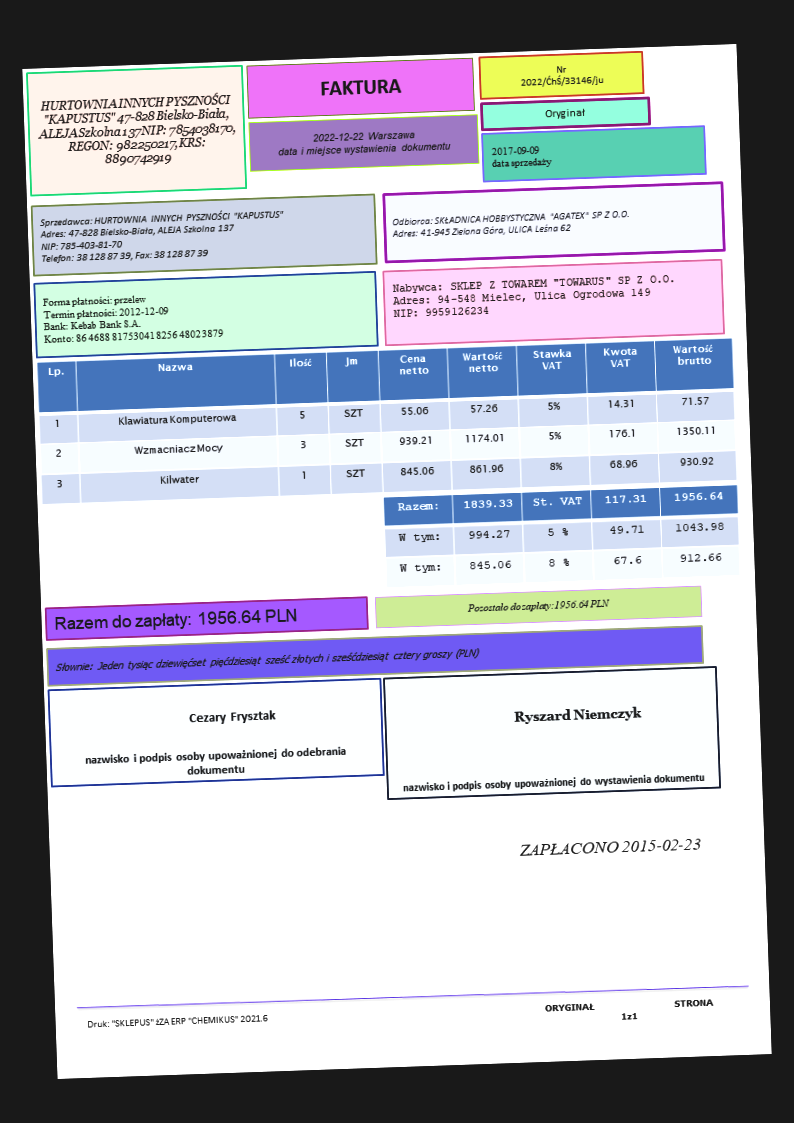Table: (35, 336, 738, 506), (382, 484, 742, 588)
TextBox: (35, 91, 240, 171), (37, 208, 287, 266), (390, 271, 678, 320), (54, 645, 482, 676), (41, 289, 226, 346), (81, 744, 349, 779), (389, 205, 631, 240), (400, 770, 706, 796), (52, 605, 298, 635), (277, 127, 453, 159), (541, 996, 716, 1026), (517, 835, 703, 859), (85, 1012, 270, 1031), (513, 703, 643, 725), (465, 596, 612, 614), (518, 62, 606, 90), (318, 75, 403, 99), (489, 142, 553, 171), (188, 708, 277, 726), (543, 105, 587, 121)
